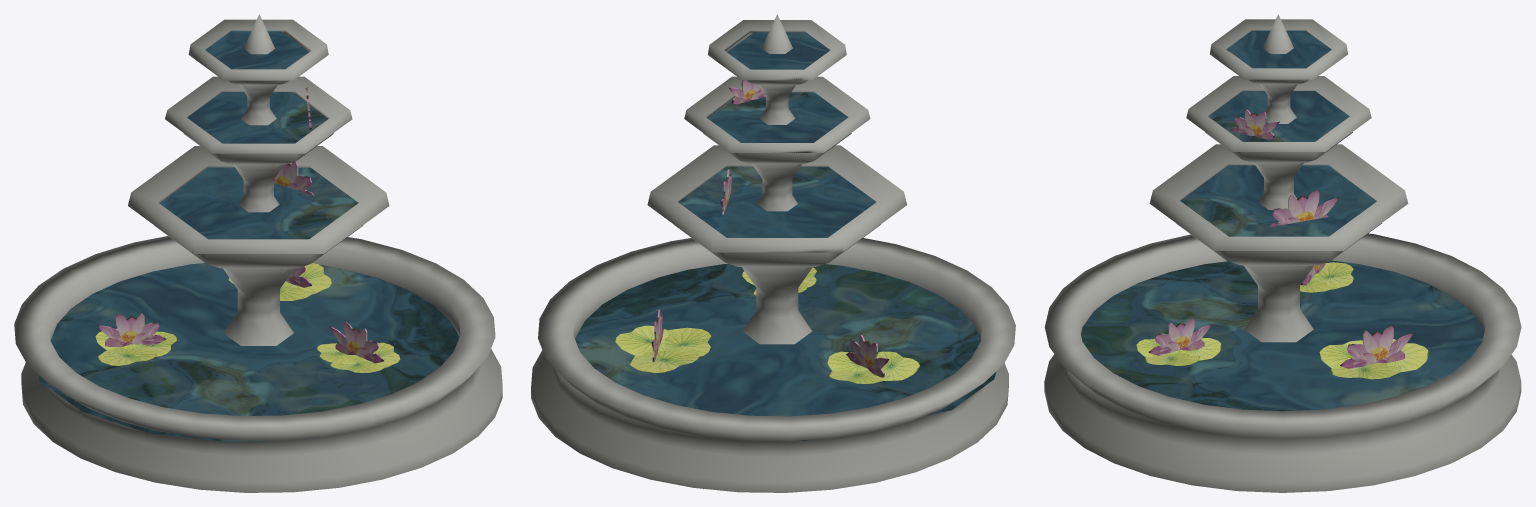
File: Fountain.fbx
3 views of the same model, side by side, from view 1: azimuth 30°, elevation 25°; view 2: azimuth 150°, elevation 25°; view 3: azimuth 270°, elevation 25° (orthographic).
Visible parts, largest first — view 1: Fountain, Water, Nenuphar; view 2: Fountain, Water, Nenuphar; view 3: Fountain, Water, Nenuphar.
Boxes of the visible parts, x1,y1,x2,y2 form: Fountain: (14, 14, 502, 492); Water: (38, 31, 459, 442); Nenuphar: (95, 87, 400, 372); Fountain: (531, 14, 1015, 492); Water: (575, 32, 996, 440); Nenuphar: (615, 80, 920, 383); Fountain: (1044, 14, 1521, 492); Water: (1081, 30, 1483, 411); Nenuphar: (1136, 109, 1429, 379).
Size of the model in its own units: 8.56 by 7.32 by 8.42.
